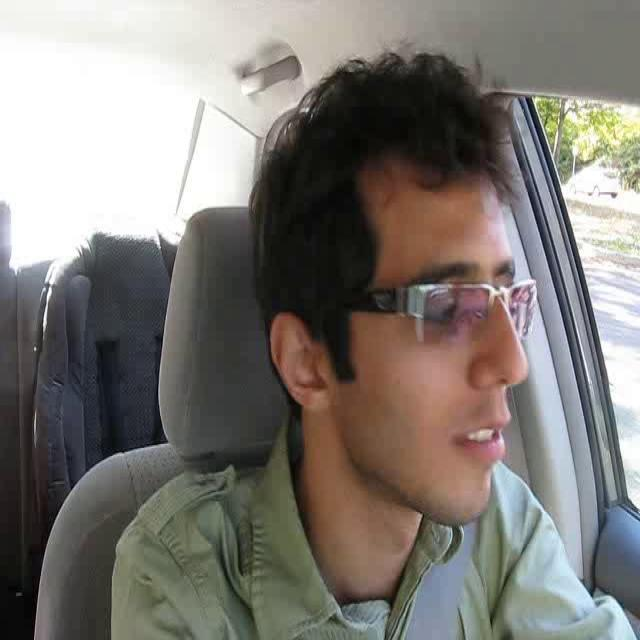close: (453, 413, 511, 465)
